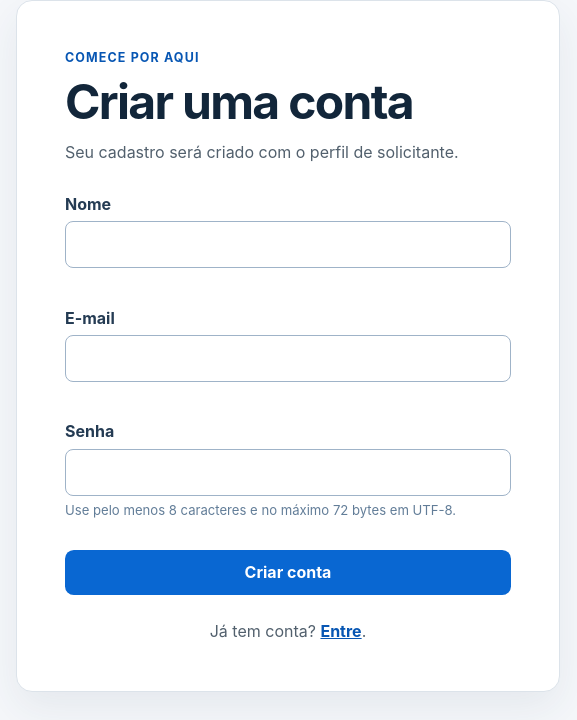
Test: CadastroComponent › trata e-mail duplicado e reabilita o envio
In the field with id "cadastro-nome": x=288, y=244 [65, 221, 511, 268], type "Ana"
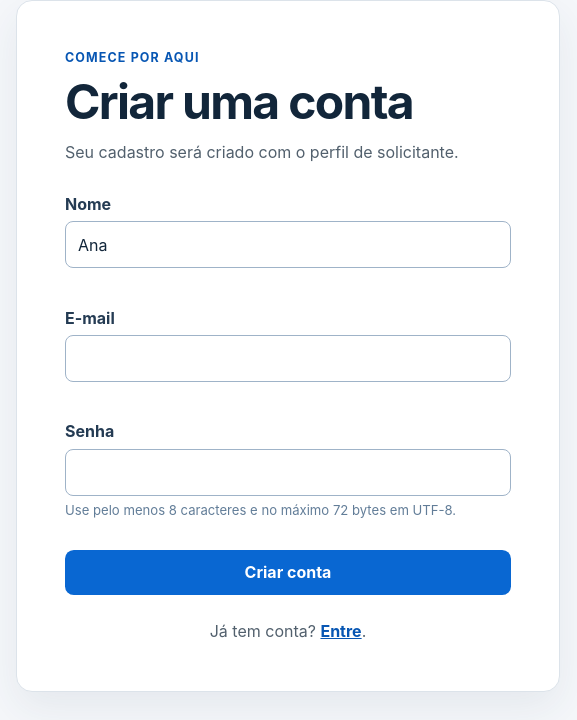
In the field with id "cadastro-email": x=288, y=358 [65, 335, 511, 382], type "ana@example.com"
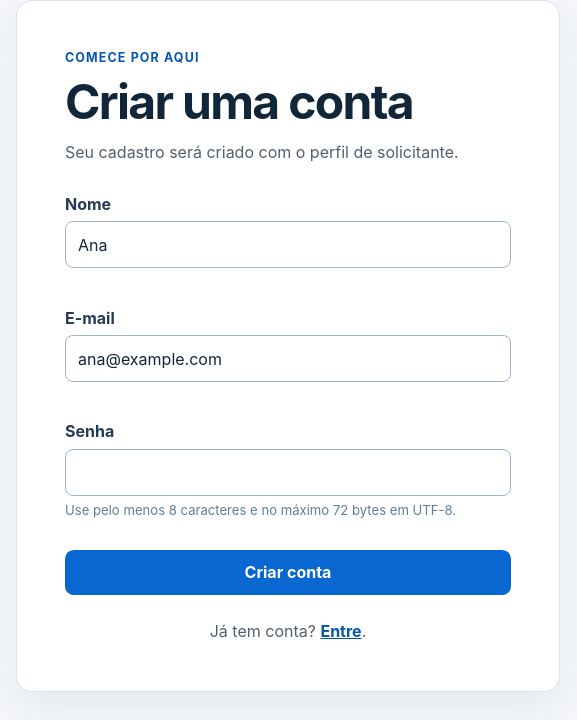
In the password field with id "cadastro-senha": x=288, y=472 [65, 449, 511, 496], type "senha-segura"
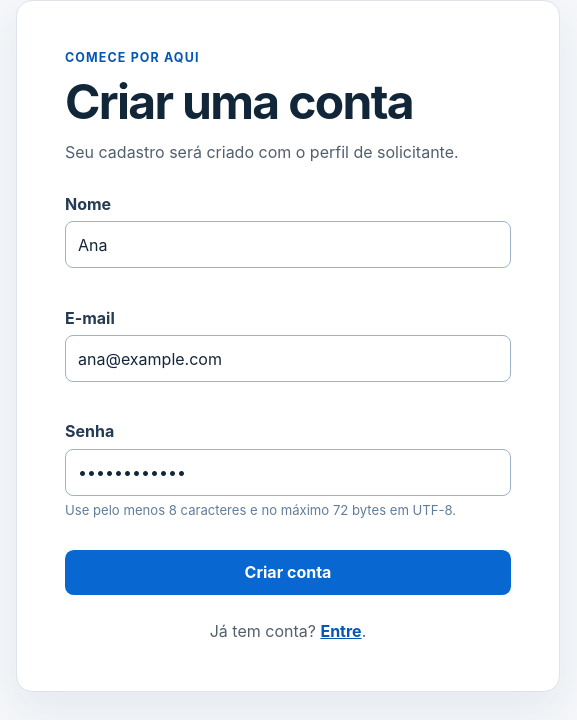
Submit the form, box [65, 192, 511, 595]
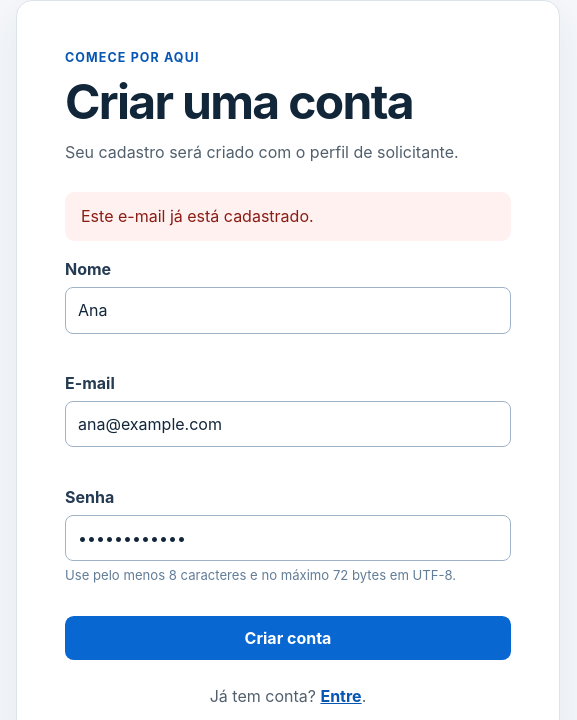
Expected: the message with test id "cadastro-error" shows "já está cadastrado", [81, 206, 314, 226]
